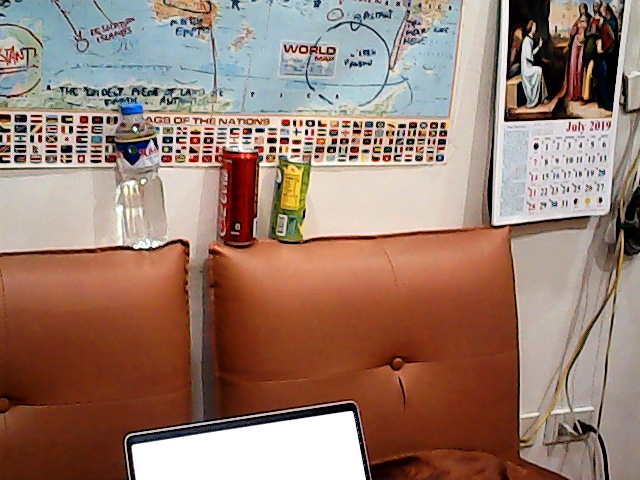Cola: (210, 143, 264, 251)
Pine Juice: (265, 147, 318, 246)
Summit Water: (115, 100, 168, 258)
